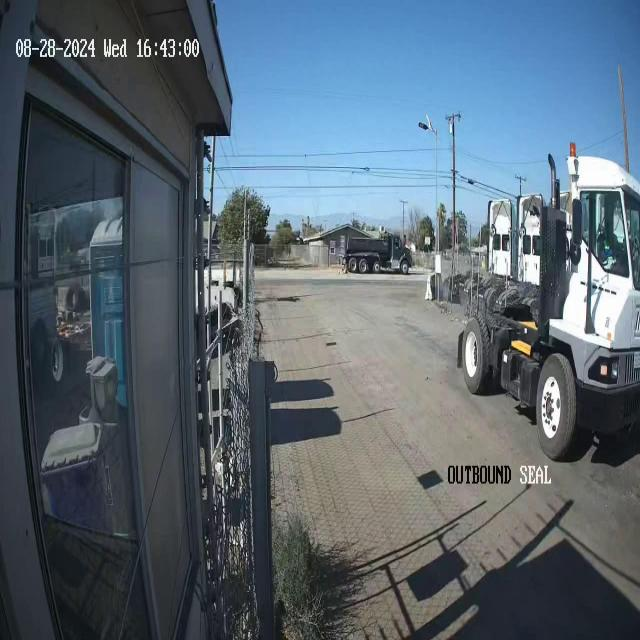TRUCK_IN: (457, 142, 639, 461)
